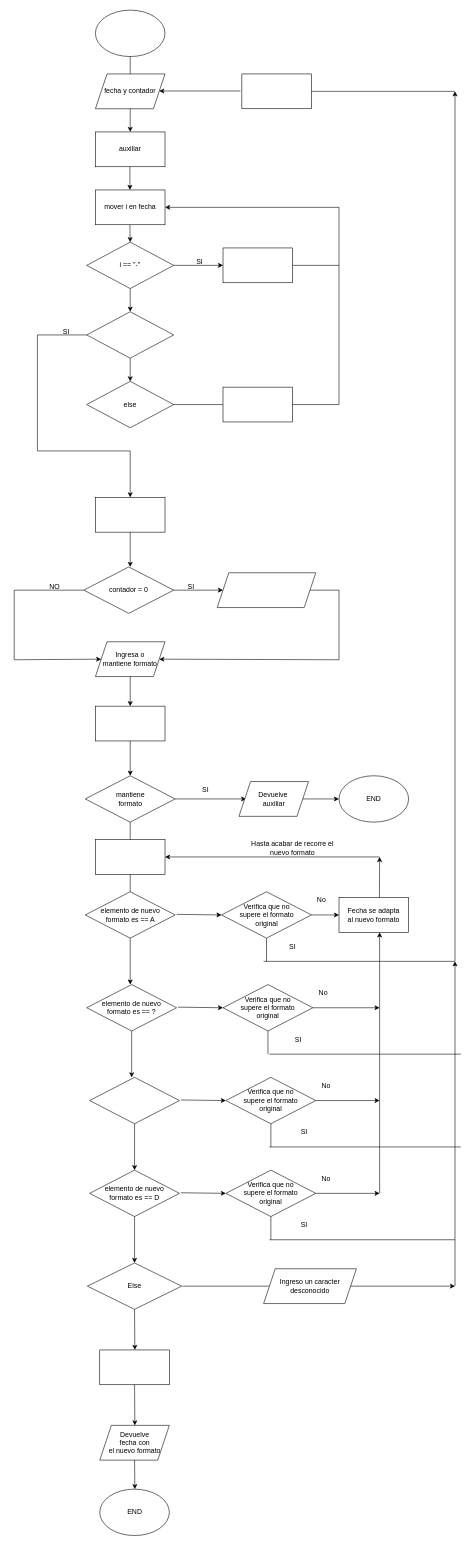
The diagram is 472 pixels wide and 1546 high, and some of its shapes have lost their labels. The box of each missing label's shape, as (x1, y1, x2, y2) in pixels:
Acaba bucle: (99, 1349, 169, 1385)
auxiliar += "??": (222, 247, 293, 283)
auxiliar += i: (222, 387, 293, 422)
contador + 1: (241, 73, 311, 109)
Declarar variables auxiliares: (95, 706, 165, 741)
elemento de nuevo formato es == M: (89, 1077, 180, 1124)
Explicar formato y si desea mantenerlo o no: (217, 572, 316, 608)
formato = "AAAA??MM??DD": (95, 497, 165, 532)
i == " ": (86, 311, 174, 358)
INICIO: (95, 10, 165, 57)
Recorre nuevo formato: (95, 839, 165, 874)
